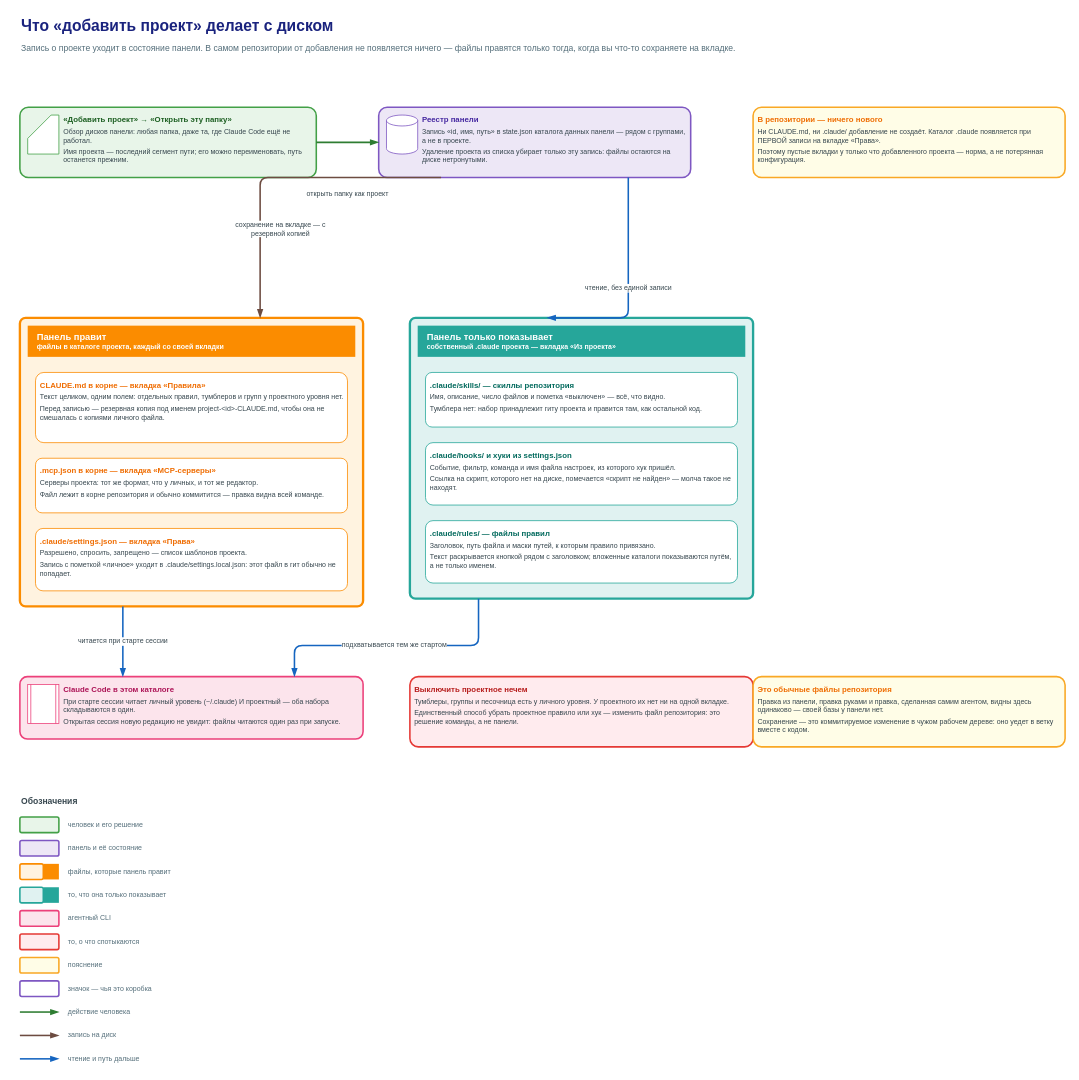
Some shapes in this 1079 by 1080 pixel diagram are drawn without their labels. Here are the shapes that lost their labels. From the top down, the centre of each, then its label:
At (x=43, y=134): "вы".
At (x=402, y=134): "state".
At (x=43, y=703): "CLI".
